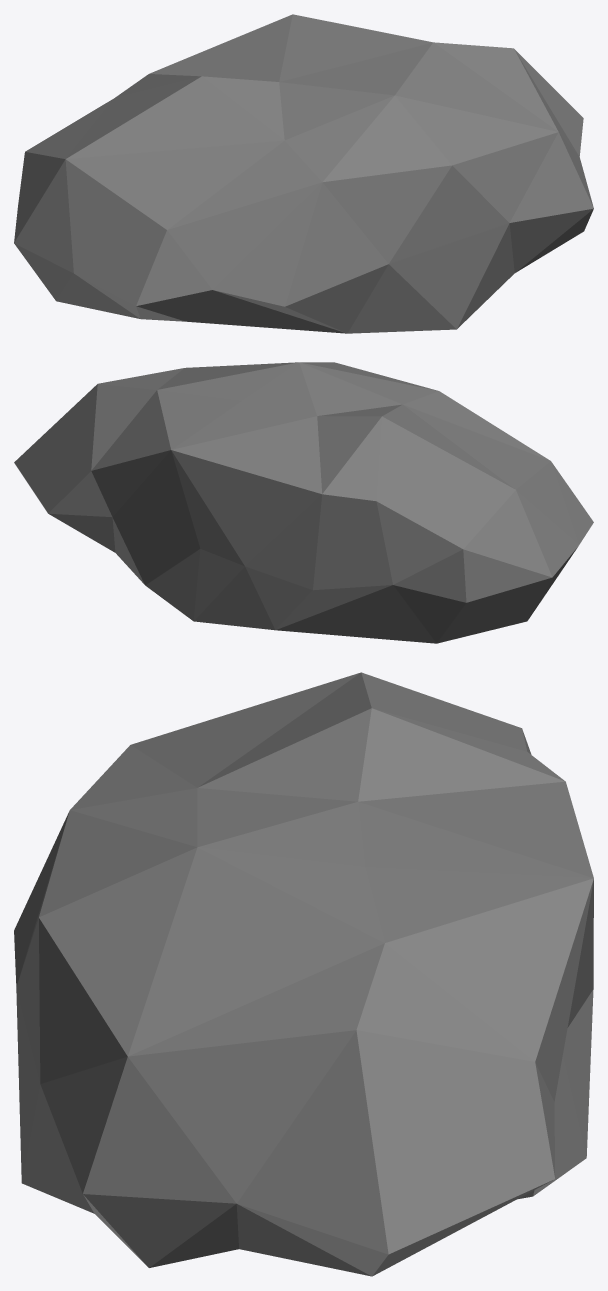
Rendered from Stone_03.fbx.
The picture shows the model from 3 angles, top to bottom: view 1: azimuth 30°, elevation 25°; view 2: azimuth 150°, elevation 25°; view 3: azimuth 270°, elevation 25°; orthographic projection. The views are drawn at different scales.
Parts seen in each view (by area): view 1: Cube; view 2: Cube; view 3: Cube.
Boxes of the visible parts, left/top/right/bottom form: Cube: left=14, top=14, right=593, bottom=333; Cube: left=14, top=362, right=593, bottom=643; Cube: left=14, top=672, right=593, bottom=1276.
Bounding box in the file's own units: 769 × 273 × 406.
